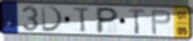3: (21, 4, 40, 33)
D: (40, 5, 65, 33)
P: (95, 6, 120, 35), (150, 9, 173, 36)
T: (128, 8, 147, 36), (73, 7, 92, 34)
